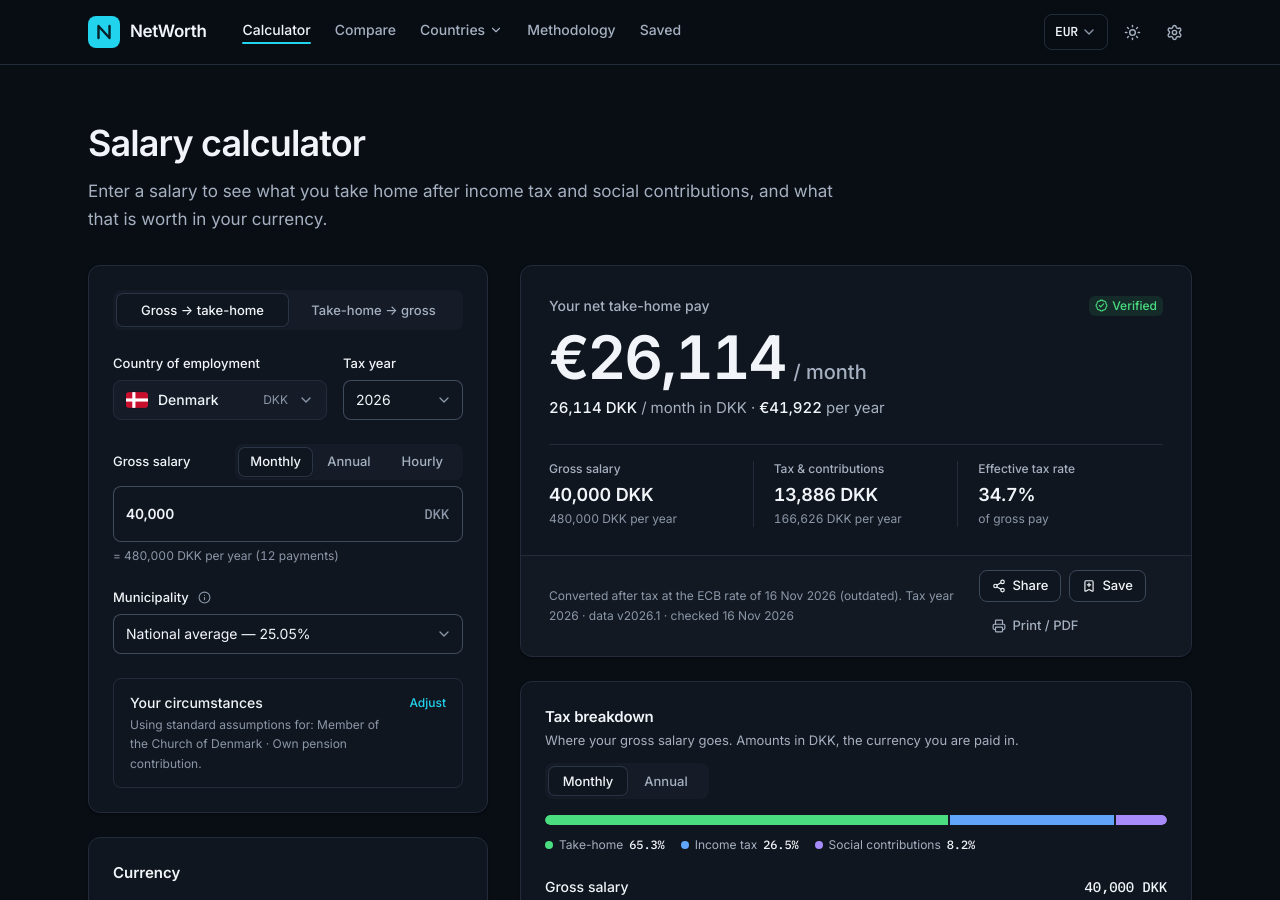
Test case: calculator › switching to annual keeps the same salary
Later steps or results of the test are not shown.
Click the radio button labelled "Annual" below "Country of employment" at {"x": 349, "y": 462}, box [312,448,386,476]
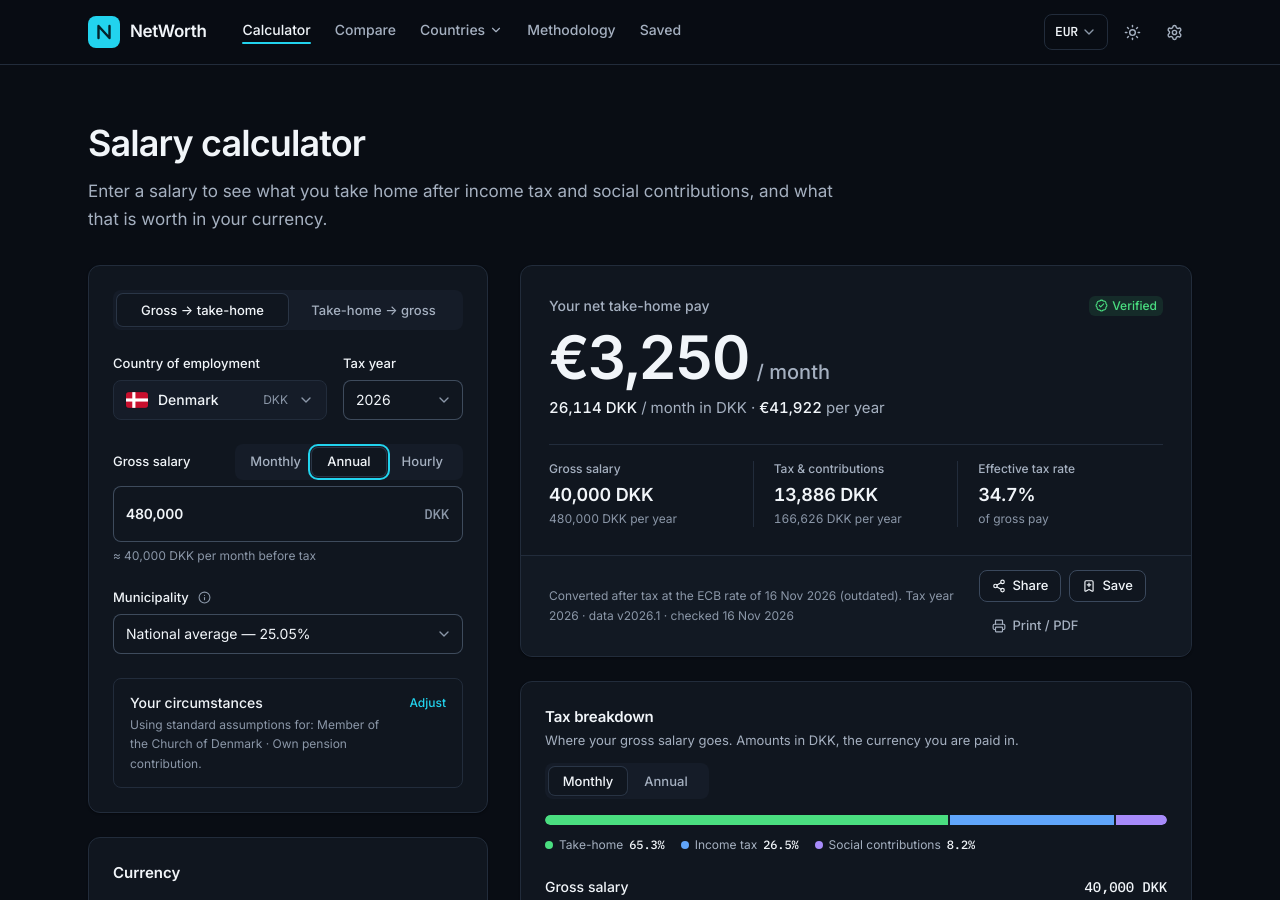
Expected: the field named "Gross annual salary in DKK" holds "480,000", [113,486,463,542]
